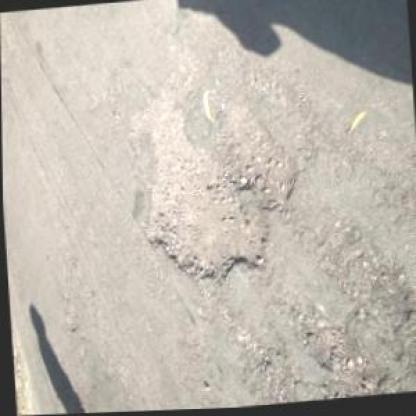pothole: (123, 64, 305, 290)
